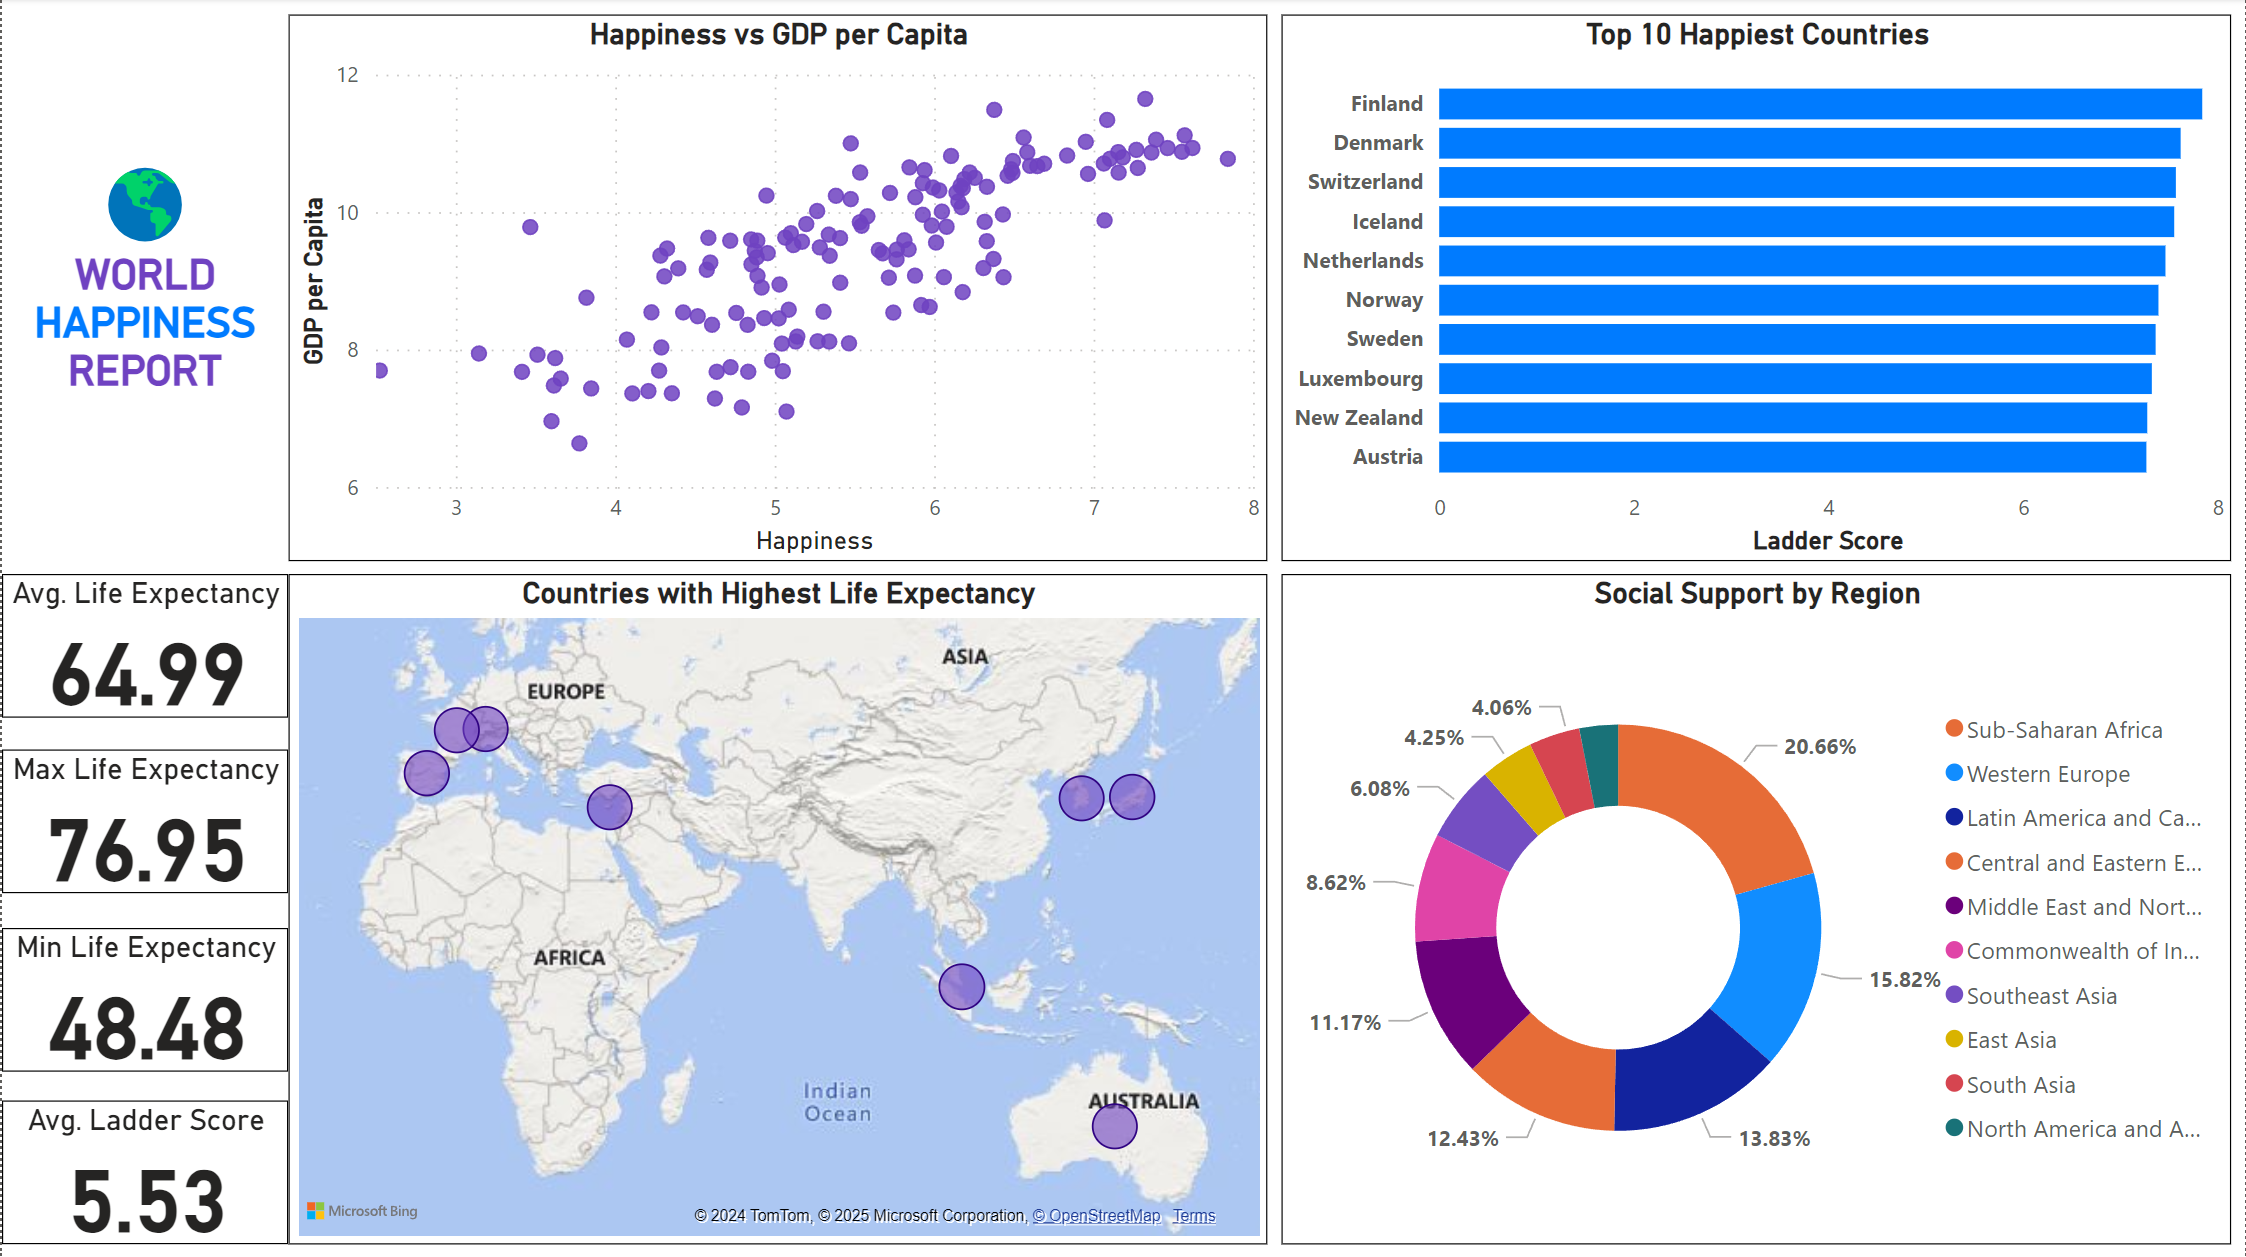

Layout of this report page (visuals, bound fields, positions):
{"tool":"powerbi","page":{"name":"Page 1","canvas":[1280,720],"ordinal":0},"visuals":[{"type":"clusteredBarChart","title":"Top 10 Happiest Countries","fields":{"Category":["world-happiness-report-2021.Country name"],"Y":["Sum(world-happiness-report-2021.Ladder score)"]},"box":[730,9.3,542.3,311.7],"z":0},{"type":"donutChart","title":"Social Support by Region","fields":{"Category":["world-happiness-report-2021.Regional indicator"],"Y":["Sum(world-happiness-report-2021.Social support)"]},"box":[730,329.1,542.3,382.4],"z":1000},{"type":"map","title":"Countries with Highest Life Expectancy","fields":{"Category":["world-happiness-report-2021.Country name"],"Size":["Sum(world-happiness-report-2021.Healthy life expectancy)"]},"box":[163.4,329.1,558.5,382.4],"z":2000},{"type":"scatterChart","title":"Happiness vs GDP per Capita","fields":{"X":["Sum(world-happiness-report-2021.Ladder score)"],"Y":["Sum(world-happiness-report-2021.Logged GDP per capita)"],"Category":["world-happiness-report-2021.Country name"]},"box":[163.4,9.3,558.5,311.7],"z":3000},{"type":"card","title":"Avg. Life Expectancy","fields":{"Values":["Avg(world-happiness-report-2021.Healthy life expectancy)"]},"box":[0,329.1,163.4,82.3],"z":4000},{"type":"card","title":"Avg. Ladder Score","fields":{"Values":["Avg(world-happiness-report-2021.Ladder score)"]},"box":[0,629.2,163.4,82.3],"z":5000},{"type":"card","title":"Max Life Expectancy","fields":{"Values":["Max(world-happiness-report-2021.Healthy life expectancy)"]},"box":[0,428.7,163.4,82.3],"z":5001},{"type":"card","title":"Min Life Expectancy","fields":{"Values":["Min(world-happiness-report-2021.Healthy life expectancy)"]},"box":[0,530.7,163.4,82.3],"z":5002},{"type":"textbox","box":[0,9.3,163.4,311.7],"z":5003}]}

Visuals, with their boxes in screenshot pixels (x1, y1, x2, y2), scaled from the page's 1280x720 canvas onto the 2246x1257 screenshot:
"Top 10 Happiest Countries" clusteredBarChart: (left=1281, top=16, right=2232, bottom=560)
"Social Support by Region" donutChart: (left=1281, top=575, right=2232, bottom=1242)
"Countries with Highest Life Expectancy" map: (left=287, top=575, right=1267, bottom=1242)
"Happiness vs GDP per Capita" scatterChart: (left=287, top=16, right=1267, bottom=560)
"Avg. Life Expectancy" card: (left=0, top=575, right=287, bottom=718)
"Avg. Ladder Score" card: (left=0, top=1098, right=287, bottom=1242)
"Max Life Expectancy" card: (left=0, top=748, right=287, bottom=892)
"Min Life Expectancy" card: (left=0, top=927, right=287, bottom=1070)
textbox: (left=0, top=16, right=287, bottom=560)
